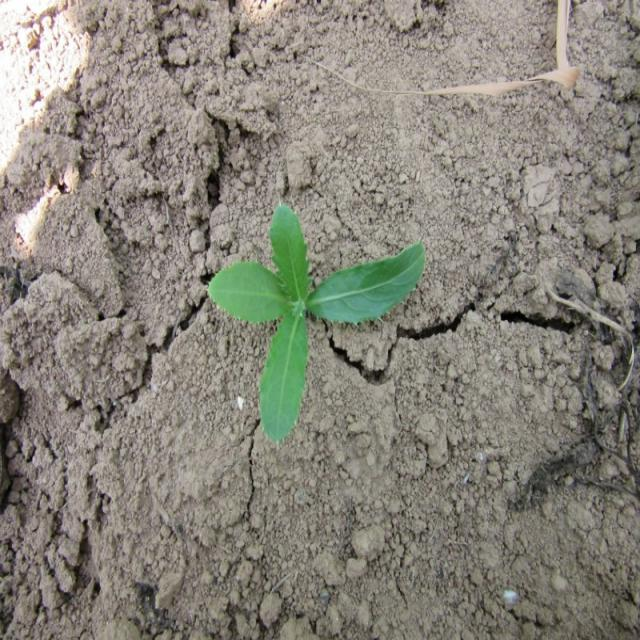field_thistle: (199, 185, 424, 446)
